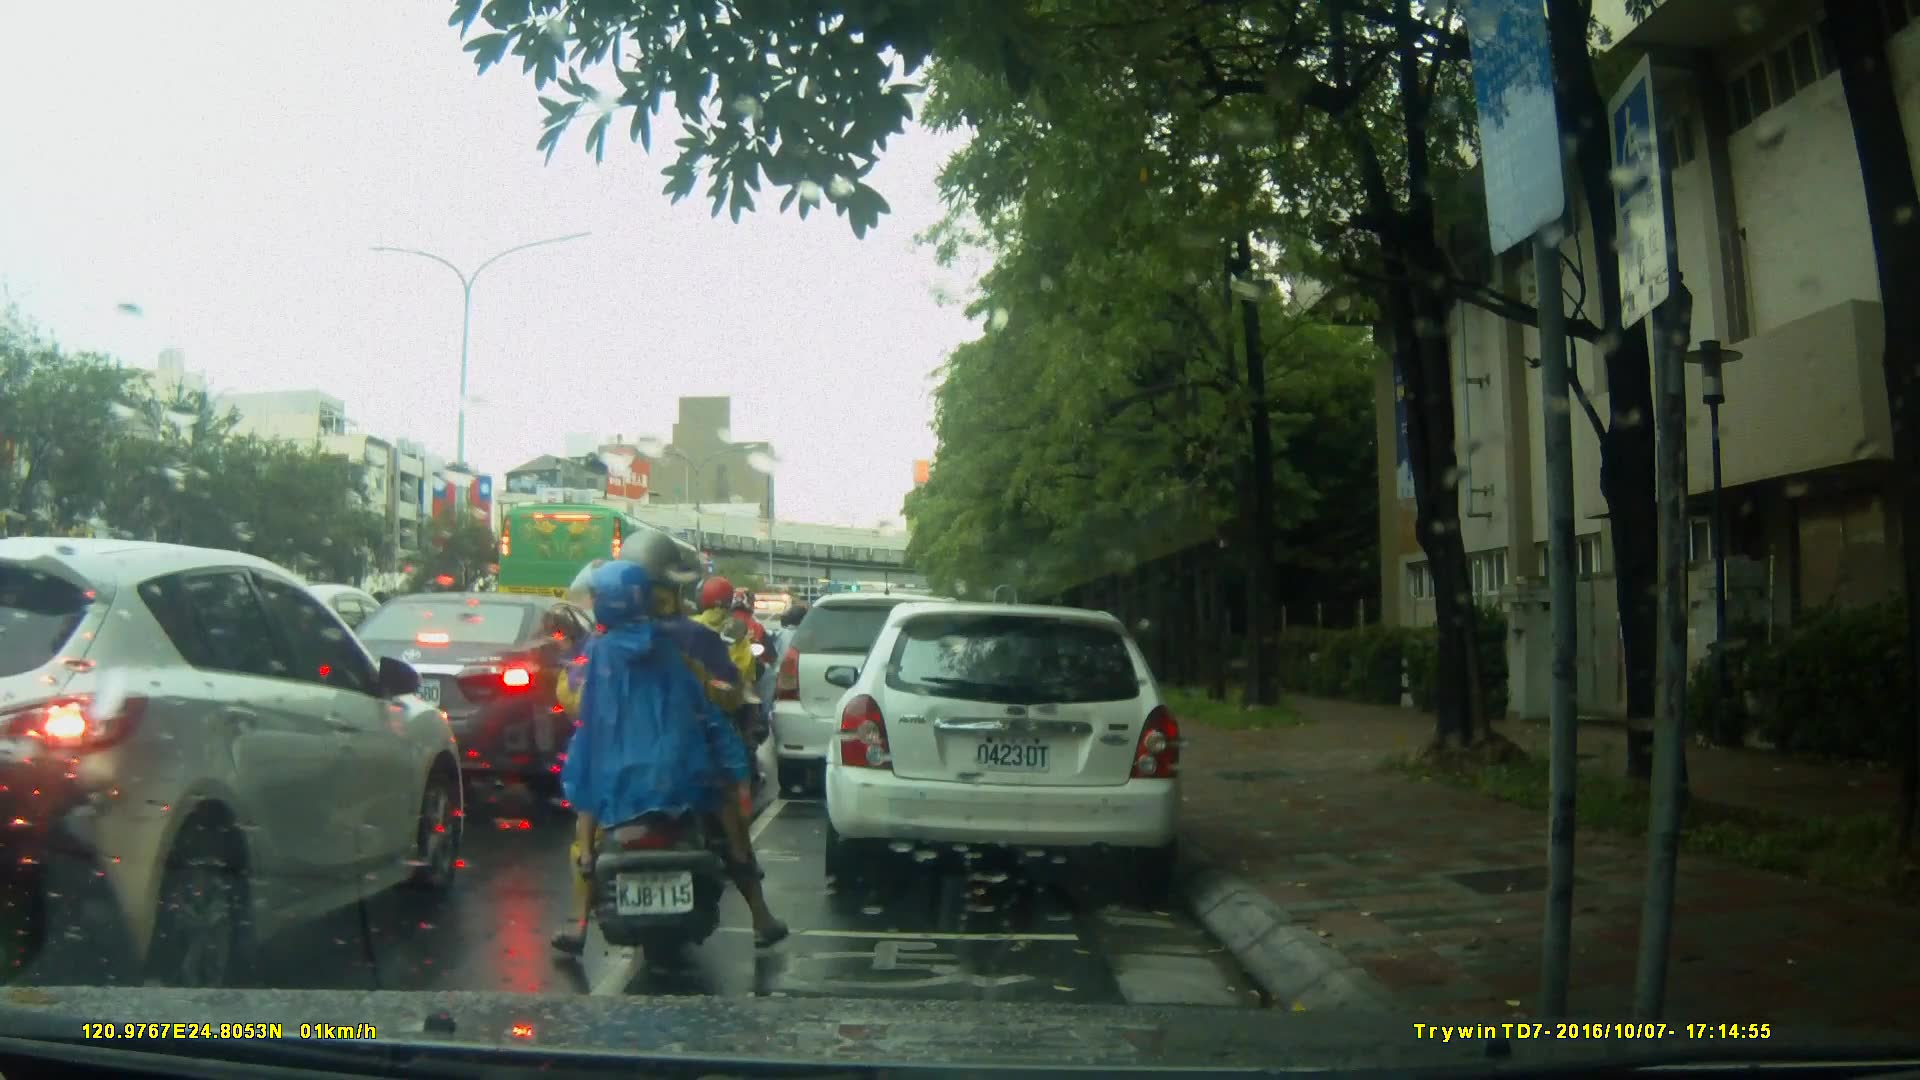rider: (524, 524, 802, 976), (681, 574, 766, 805), (719, 592, 777, 749), (774, 598, 819, 725)
vehicle: (5, 535, 470, 988), (831, 592, 1196, 897), (315, 589, 629, 776), (770, 590, 999, 804), (499, 503, 713, 636)
